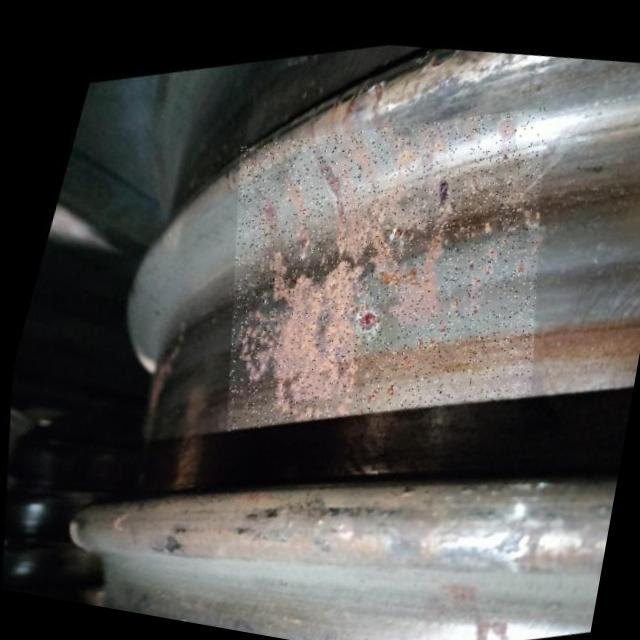Blue hole: (350, 287, 399, 355), (427, 171, 471, 220)
